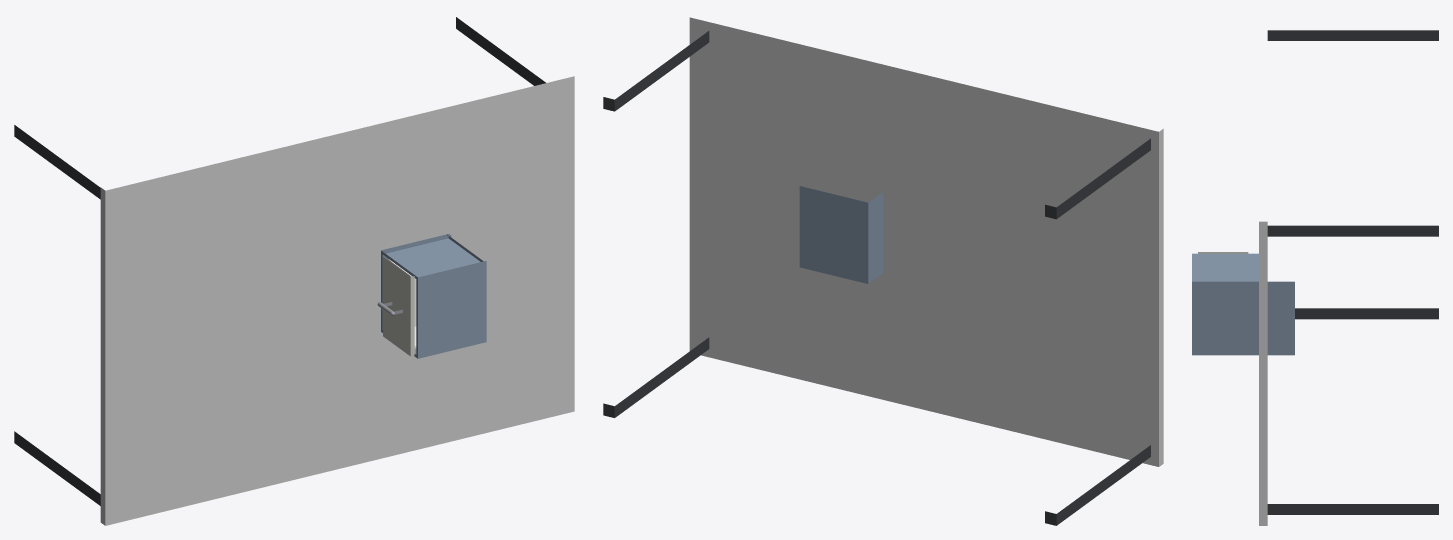
3 renders of one model, left to right at view 1: azimuth 30°, elevation 25°; view 2: azimuth 150°, elevation 25°; view 3: azimuth 270°, elevation 25°, orthographic. The views are drawn at different scales.
Parts seen in each view (by area): view 1: s0, s1, s2; view 2: s0, s1; view 3: s0, s1.
Boxes of the visible parts, x1,y1,x2,y2 form: s0: [14, 17, 574, 525]; s1: [381, 233, 486, 358]; s2: [377, 257, 416, 356]; s0: [603, 17, 1163, 525]; s1: [799, 186, 883, 283]; s0: [1259, 30, 1438, 525]; s1: [1192, 253, 1294, 355].
Size of the model in its own units: 2.05 by 1.4 by 1.03.
